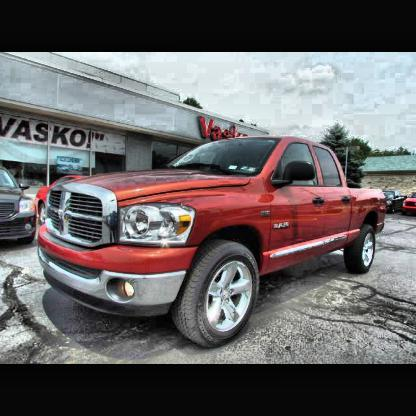Dodge Ram Pickup 3500 Quad Cab 2009: (40, 137, 387, 347)
